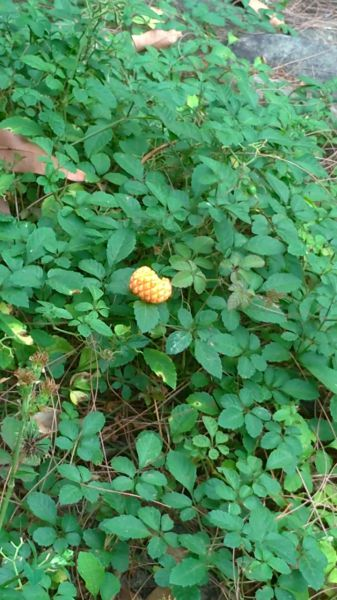eggs: (128, 259, 174, 308)
